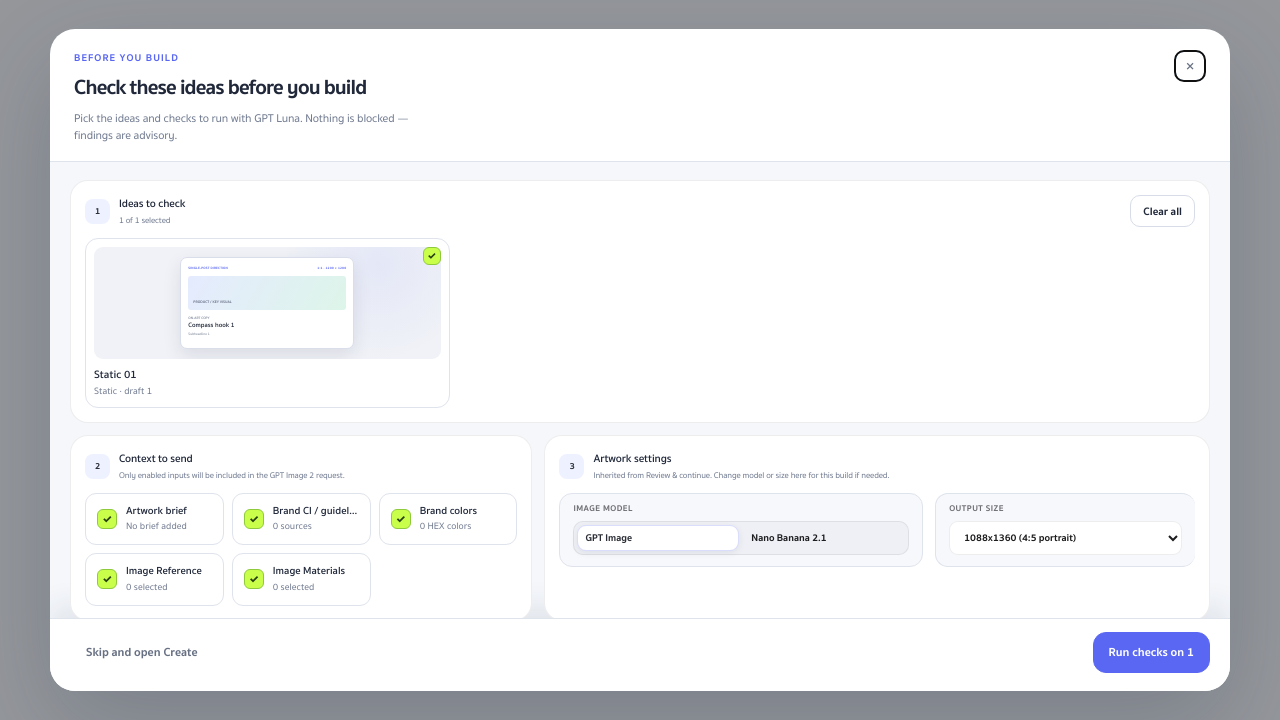
Scenario: PreflightModal › sends the user's added instructions to the fix agent
Step 1. Click the button "Run checks on 1" → (1151, 653), box [1093,632,1210,673]
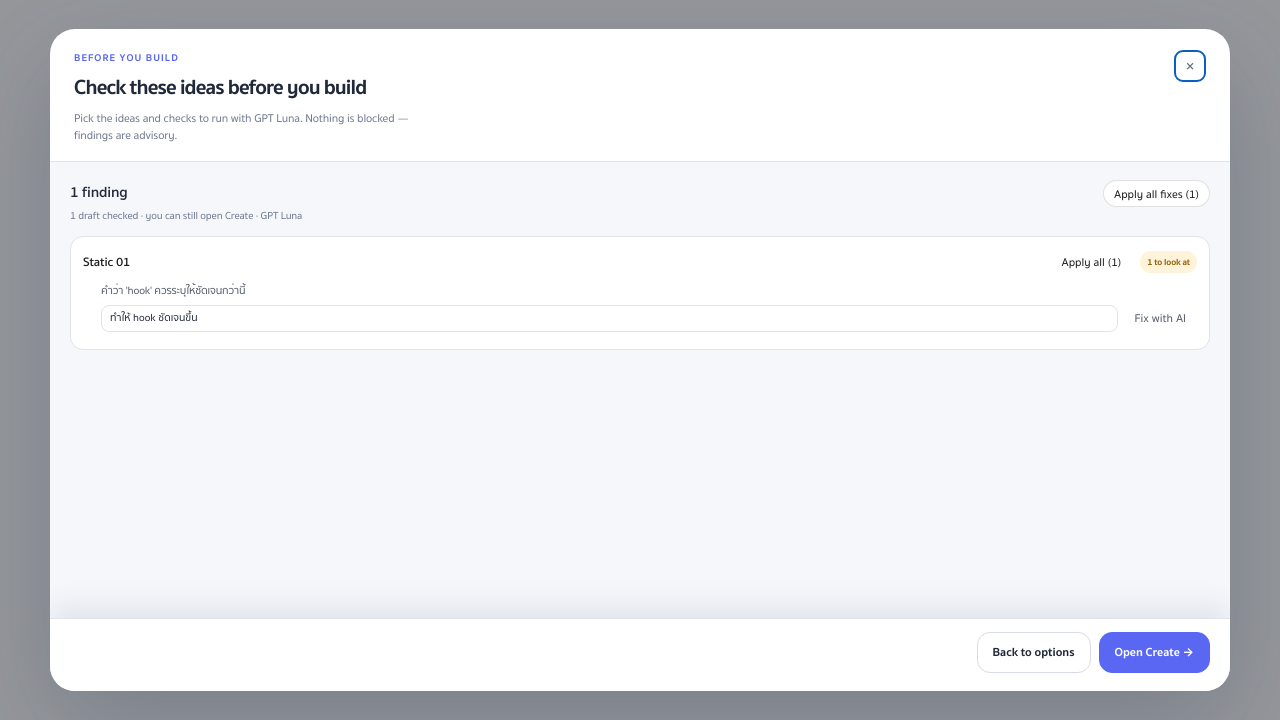
Expected: the field named "Additional instructions (optional)" holds "ทำให้ hook ชัดเจนขึ้น"
Step 2. Replace the text in the field named "Additional instructions (optional)" with "Keep it under 8 words" → (609, 319), box [101,305,1118,332]
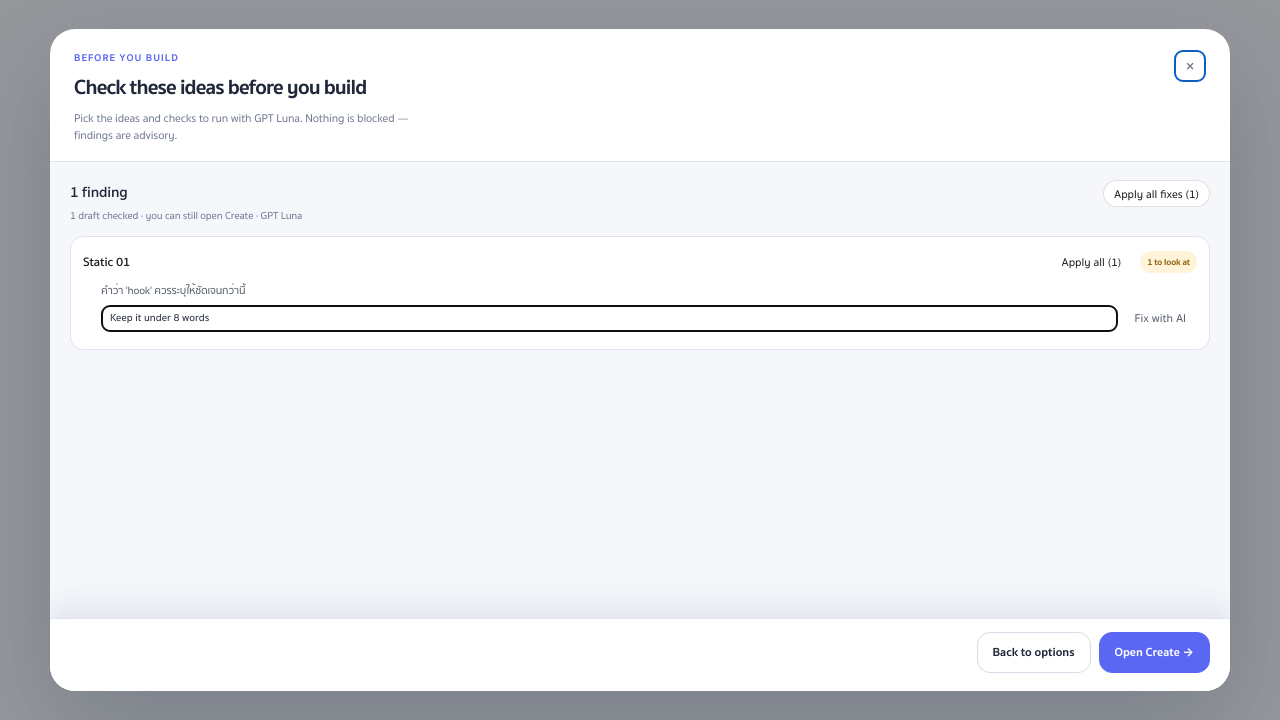
Step 3. Click the button "Fix with AI" → (1160, 318), box [1124,305,1197,332]
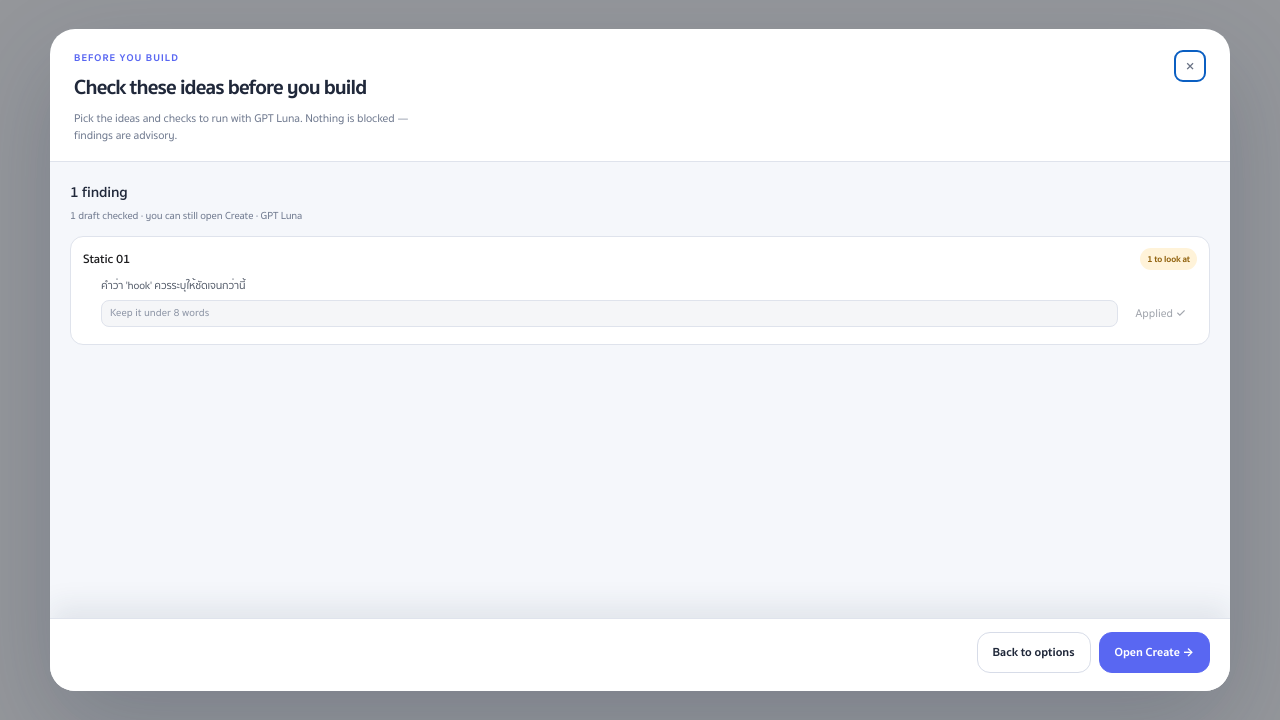
Expected: the button "Applied ✓" is shown, [1124,300,1197,327]
